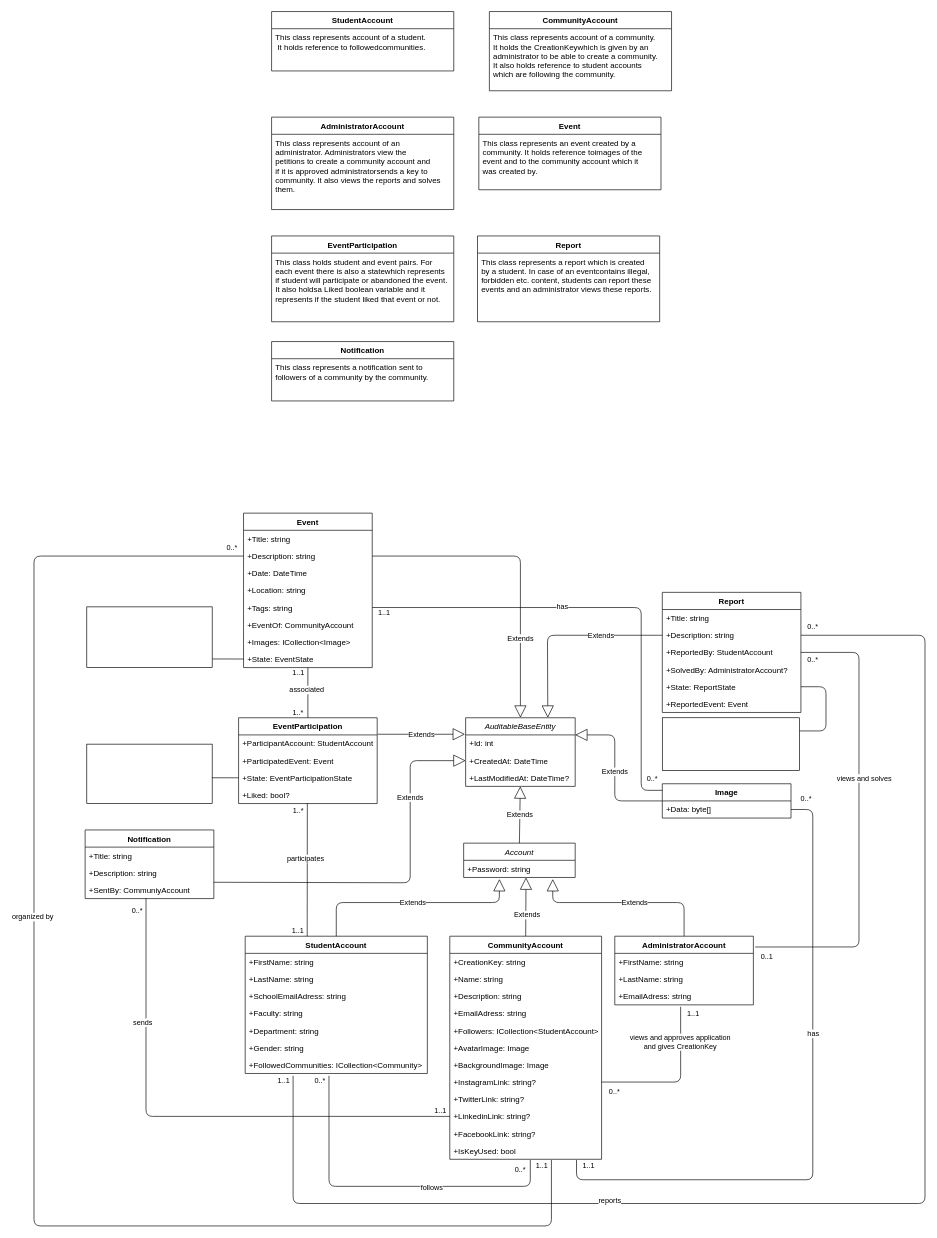
The diagram is 937 pixels wide and 1238 high, and some of its shapes have lost their labels. Here are the shapes that lost their labels. From the top down, the centre of each, then its label:
At pixel 149 637: "<<Enumeration>> EventState Active Ended Canceled".
At pixel 731 744: "<<Enumeration>> ReportState Waiting Solved".
At pixel 149 773: "<<Enumeration>> EventParticipationState Participating Abandoned Participated".
